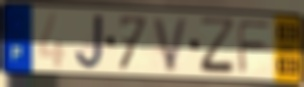4: (37, 10, 68, 70)
7: (117, 14, 149, 73)
F: (236, 19, 276, 76)
J: (73, 12, 106, 71)
V: (151, 15, 191, 74)
Z: (198, 15, 238, 77)
